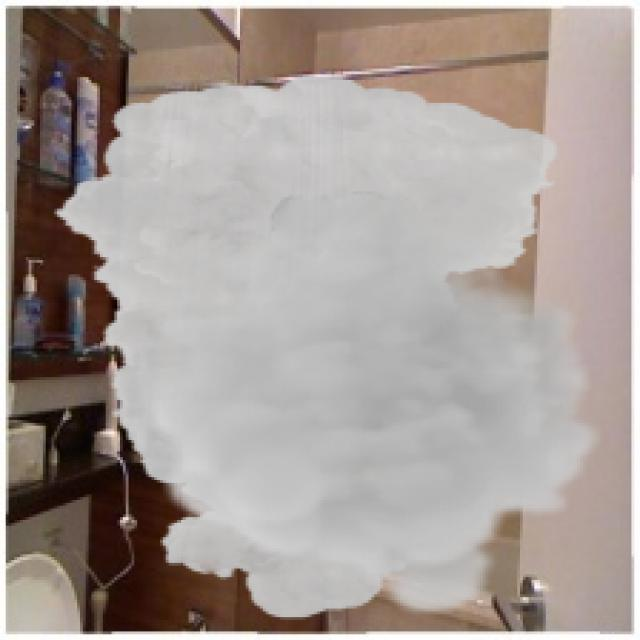smoke: (51, 74, 603, 620)
